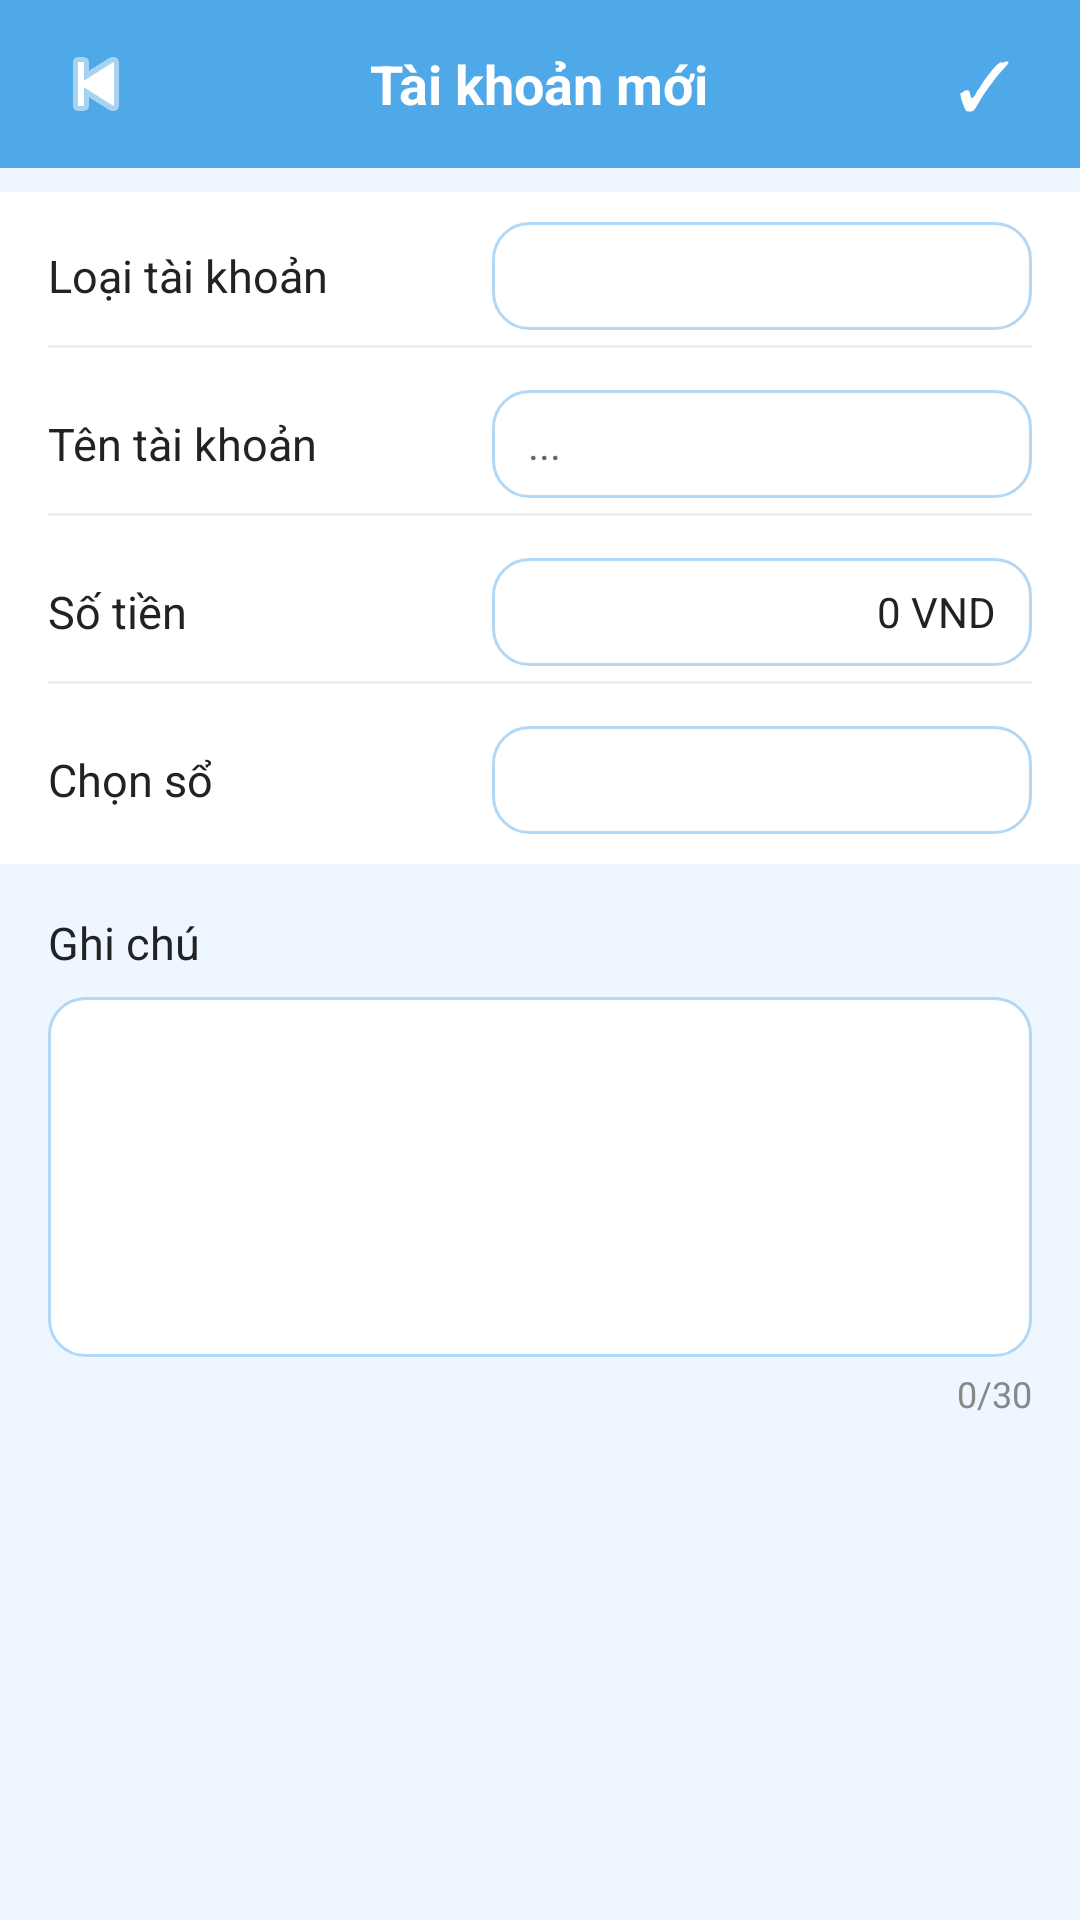

Icons on this 1080w x 1920h Android screen, each with its box as [x1=x1, y1=y1, x2=x2, y2=y2]:
previous: [x1=73, y1=57, x2=119, y2=111]
